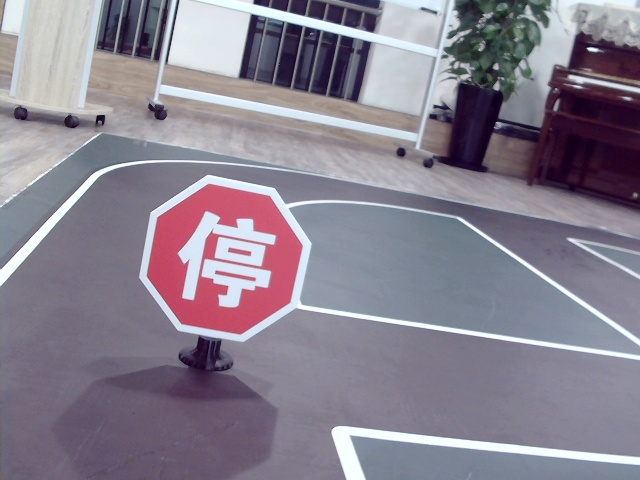stop: (175, 206, 277, 309)
